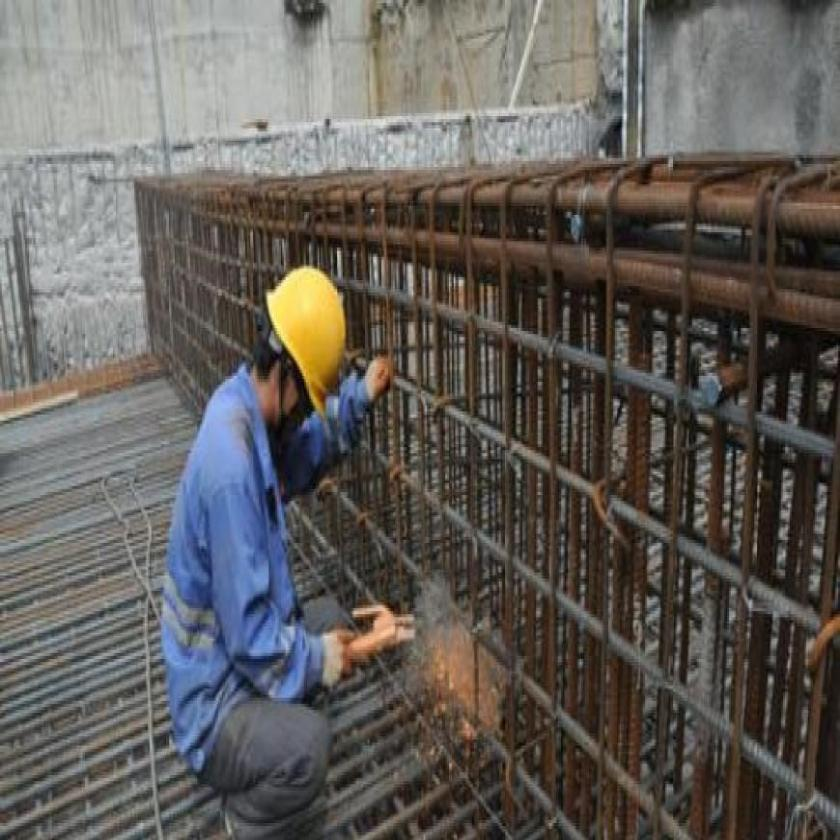Con_casco: (241, 262, 355, 445)
